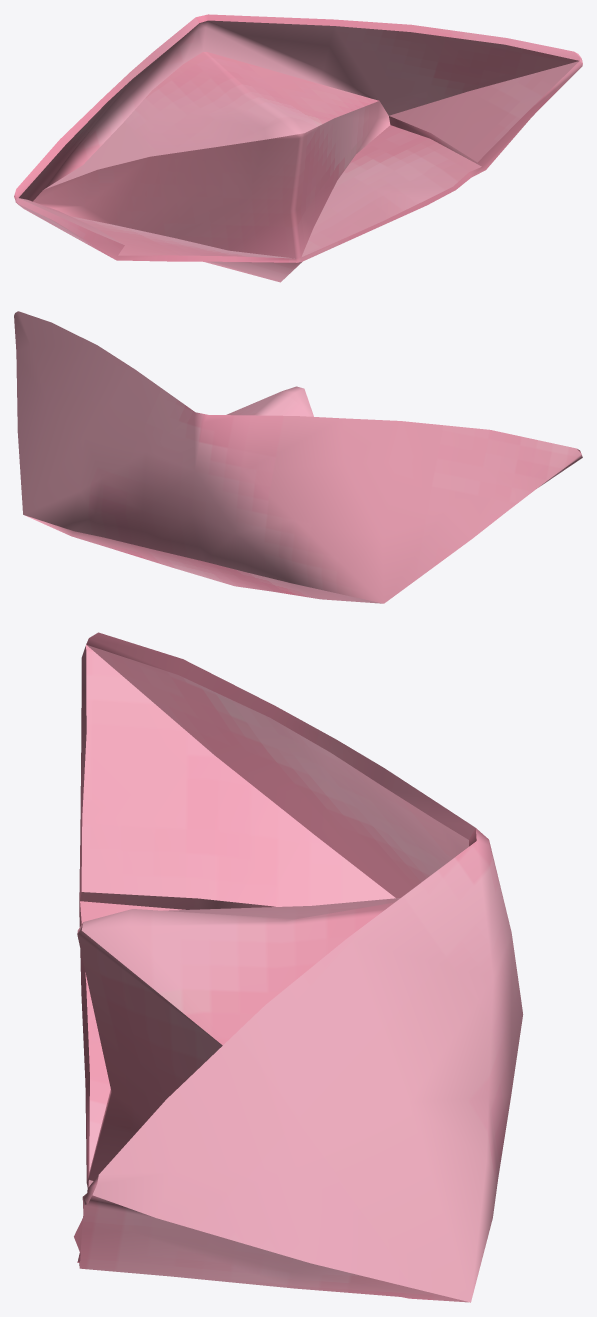
The model's file is ref_gtpaperboat.fbx.
The picture shows the model from 3 angles, top to bottom: view 1: azimuth 30°, elevation 25°; view 2: azimuth 150°, elevation 25°; view 3: azimuth 270°, elevation 25°; orthographic projection. The views are drawn at different scales.
Parts seen in each view (by area): view 1: ref_gtpaperboat; view 2: ref_gtpaperboat; view 3: ref_gtpaperboat.
Boxes of the visible parts, left/top/right/bottom form: ref_gtpaperboat: left=14, top=14, right=582, bottom=282; ref_gtpaperboat: left=14, top=311, right=582, bottom=603; ref_gtpaperboat: left=74, top=632, right=523, bottom=1302.
Bounding box in the file's own units: 100 × 35.11 × 34.28.
